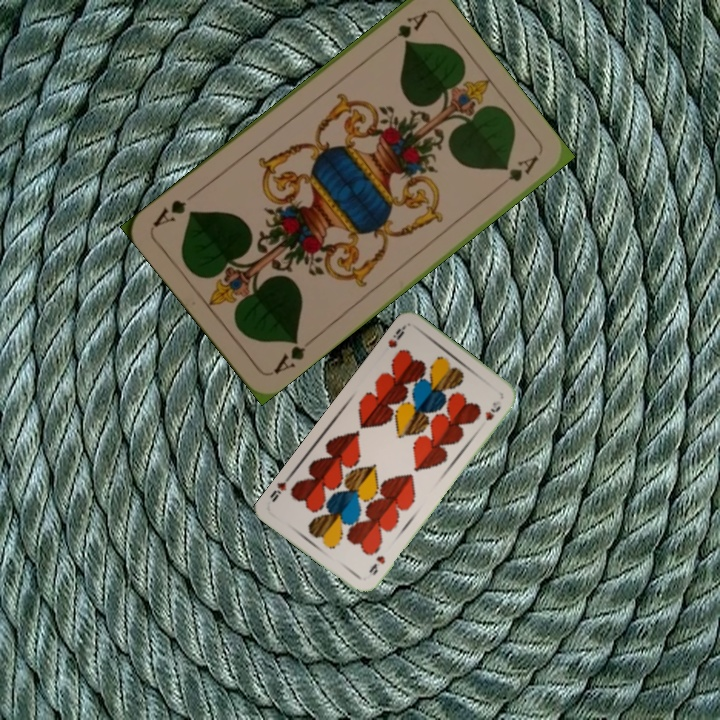GA: (379, 8, 430, 50), (269, 333, 308, 377)
H9: (384, 322, 409, 350), (365, 551, 388, 578)
